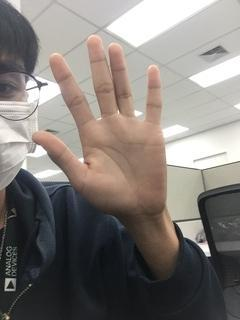hand: (32, 34, 168, 218)
